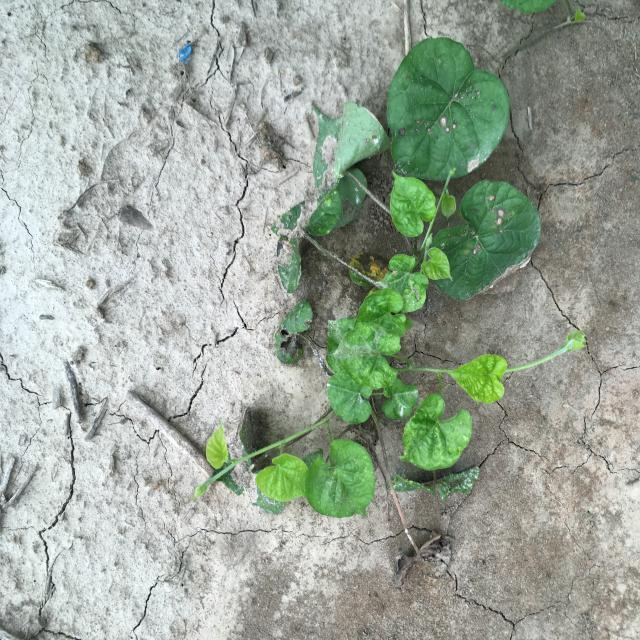MorningGlory: (191, 38, 587, 518)
